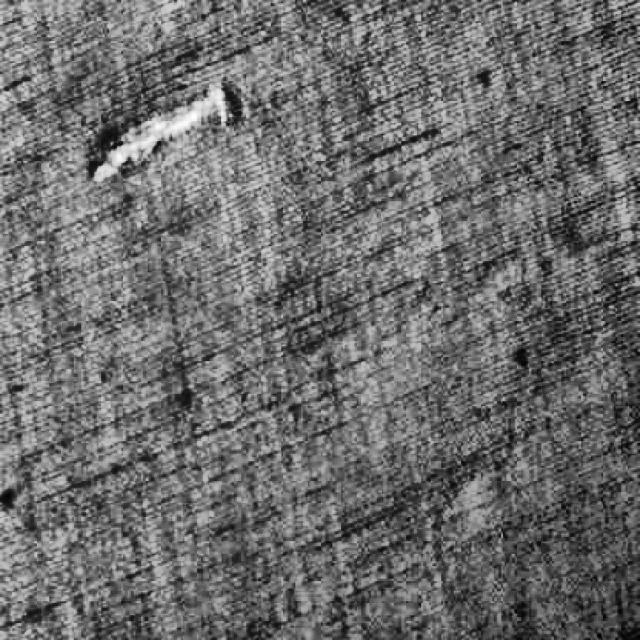hole: (76, 78, 254, 200)
